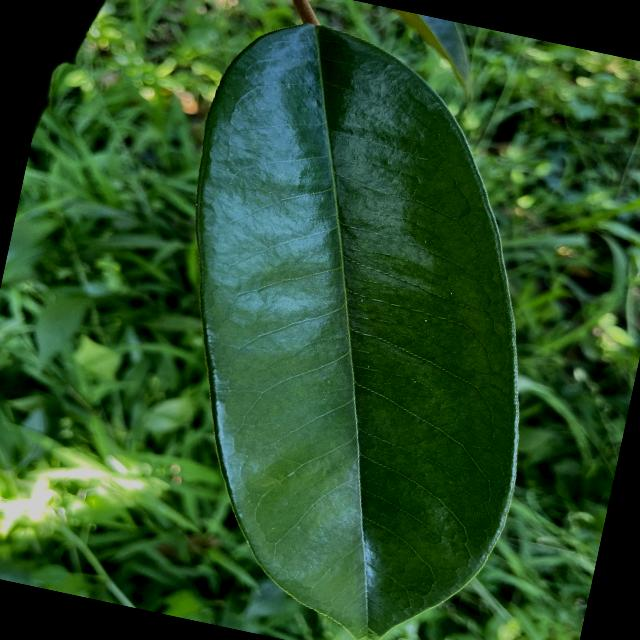No Disease: (96, 0, 607, 639)
